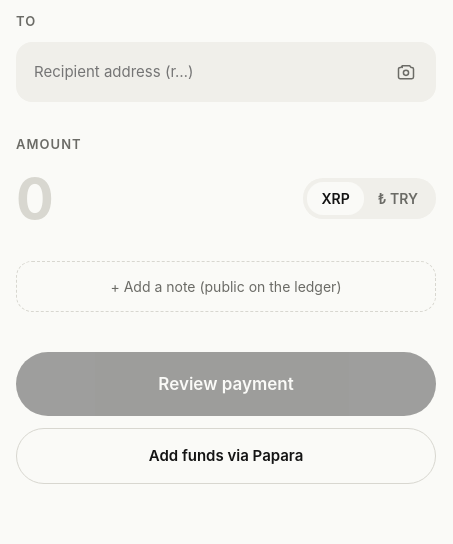
Test: SendFlow › shows invalid-address feedback for a bad recipient
In the field with placeholder "Recipient address (r…)": point(207, 72) 34,62 -> 380,81, type "notanaddress"
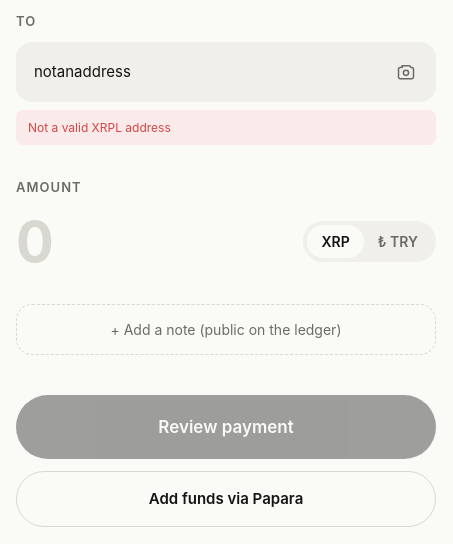
expect the text "Not a valid XRPL address" is shown: met, box 16,110 -> 436,145
